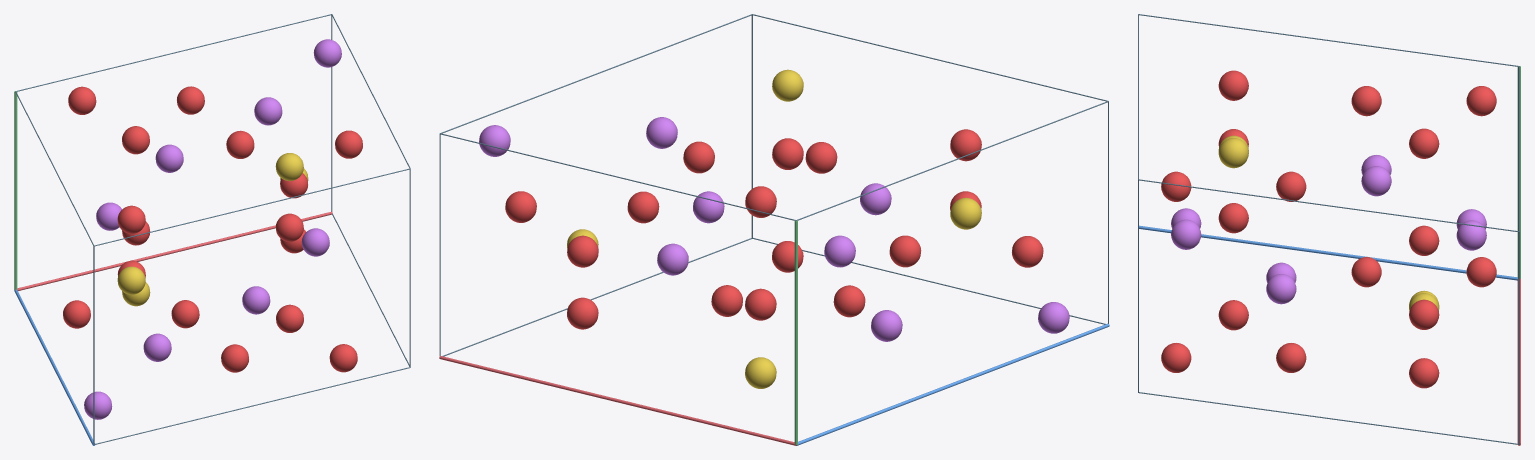
Rendered from chat-lithium-sulfate.glb.
3 renders of one model, left to right at view 1: azimuth 30°, elevation 25°; view 2: azimuth 150°, elevation 25°; view 3: azimuth 270°, elevation 25°, orthographic. The views are drawn at different scales.
Parts seen in each view (by area): view 1: Ô mạng và các trục a, b, c, Li2 · Li · 1 (×4), O2 · O · 1 (×4), O1 · O · 1 (×4), Li1 · Li · 1 (×4), O3 · O · 1 (×3), O4 · O · 1 (×2), S1 · S · 1 (×2); view 2: Ô mạng và các trục a, b, c, O1 · O · 1 (×4), O3 · O · 1 (×4), Li1 · Li · 1 (×4), O4 · O · 1 (×4), Li2 · Li · 1 (×4), S1 · S · 1 (×3), O2 · O · 1 (×3); view 3: Ô mạng và các trục a, b, c, O4 · O · 1 (×4), O3 · O · 1 (×4), O2 · O · 1 (×4), O1 · O · 1 (×3), Li1 · Li · 1 (×2), Li2 · Li · 1 (×2), S1 · S · 1.
Boxes of the visible parts, x1=… form: Ô mạng và các trục a, b, c: x1=14, y1=14, x2=410, y2=445; Li2 · Li · 1 (×4): x1=84, y1=39, x2=341, y2=419; O2 · O · 1 (×4): x1=68, y1=86, x2=357, y2=372; O1 · O · 1 (×4): x1=63, y1=86, x2=362, y2=372; Li1 · Li · 1 (×4): x1=96, y1=97, x2=329, y2=361; O3 · O · 1 (×3): x1=122, y1=126, x2=307, y2=332; O4 · O · 1 (×2): x1=117, y1=205, x2=303, y2=241; S1 · S · 1 (×2): x1=117, y1=153, x2=303, y2=294; Ô mạng và các trục a, b, c: x1=439, y1=14, x2=1109, y2=445; O1 · O · 1 (×4): x1=505, y1=141, x2=1043, y2=317; O3 · O · 1 (×4): x1=627, y1=142, x2=921, y2=316; Li1 · Li · 1 (×4): x1=646, y1=117, x2=902, y2=341; O4 · O · 1 (×4): x1=567, y1=129, x2=981, y2=329; Li2 · Li · 1 (×4): x1=479, y1=125, x2=1069, y2=333; S1 · S · 1 (×3): x1=745, y1=69, x2=981, y2=388; O2 · O · 1 (×3): x1=567, y1=186, x2=803, y2=272; Ô mạng và các trục a, b, c: x1=1138, y1=14, x2=1520, y2=445; O4 · O · 1 (×4): x1=1218, y1=70, x2=1439, y2=388; O3 · O · 1 (×4): x1=1276, y1=86, x2=1381, y2=372; O2 · O · 1 (×4): x1=1161, y1=86, x2=1496, y2=372; O1 · O · 1 (×3): x1=1218, y1=128, x2=1439, y2=330; Li1 · Li · 1 (×2): x1=1266, y1=166, x2=1391, y2=304; Li2 · Li · 1 (×2): x1=1171, y1=219, x2=1486, y2=250; S1 · S · 1: x1=1218, y1=138, x2=1248, y2=168.
Size of the model in its own units: 10.89 by 5.17 by 8.08.
